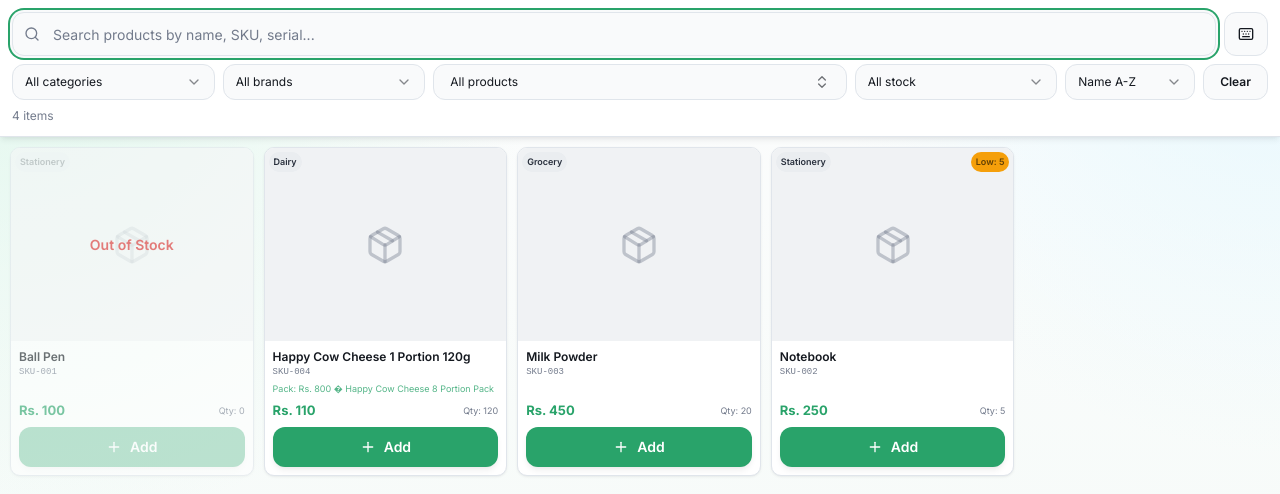
Test: ProductSearchPanel › filters by stock and brand, then clears filters back to default
Expected: the text "4 items" is shown, [12,108,54,124]
Press the mouse on the dropdown labelled "All brands" at (324,82), box [223,64,425,100]
Click the dropdown labelled "All brands" at (324,82), box [223,64,425,100]
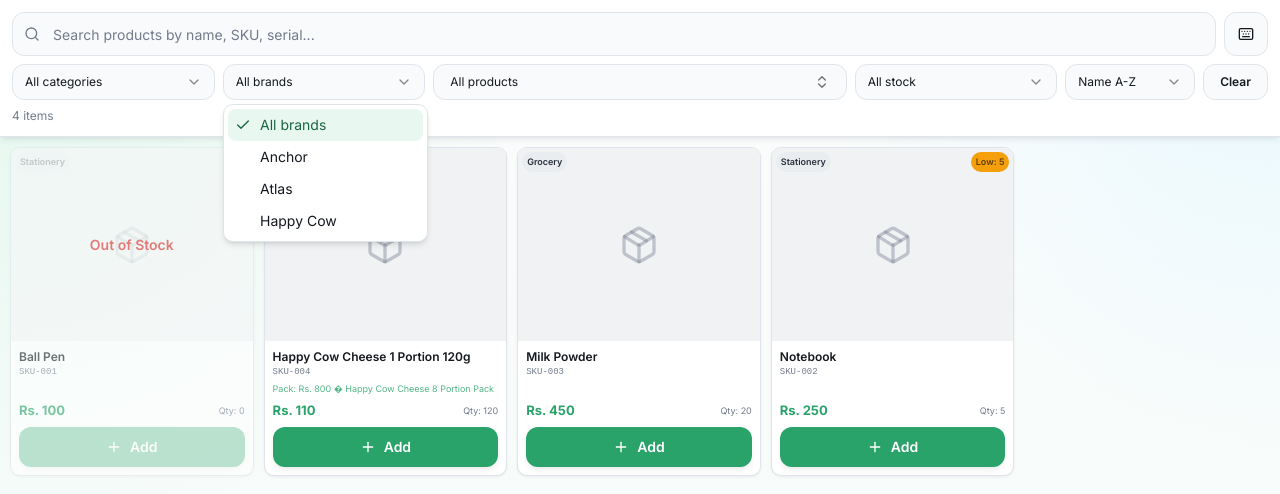
Click the option "Atlas" at (276,188), box [260,180,293,197]
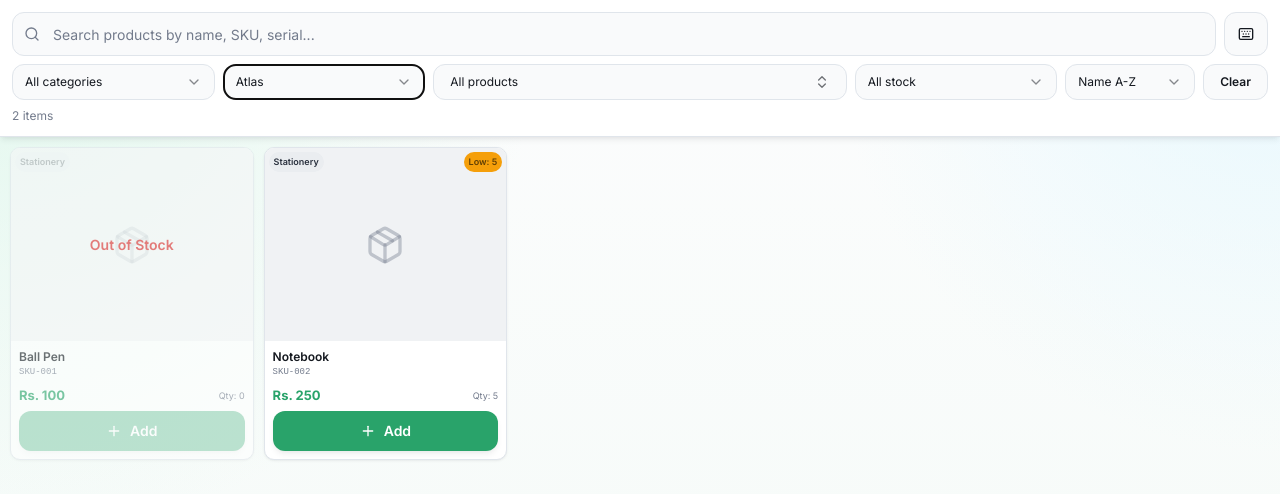
Expected: the text "2 items" is shown, [12,108,53,124]
Press the mouse on the dropdown labelled "All stock" at (956,82), box [855,64,1057,100]
Click the dropdown labelled "All stock" at (956,82), box [855,64,1057,100]
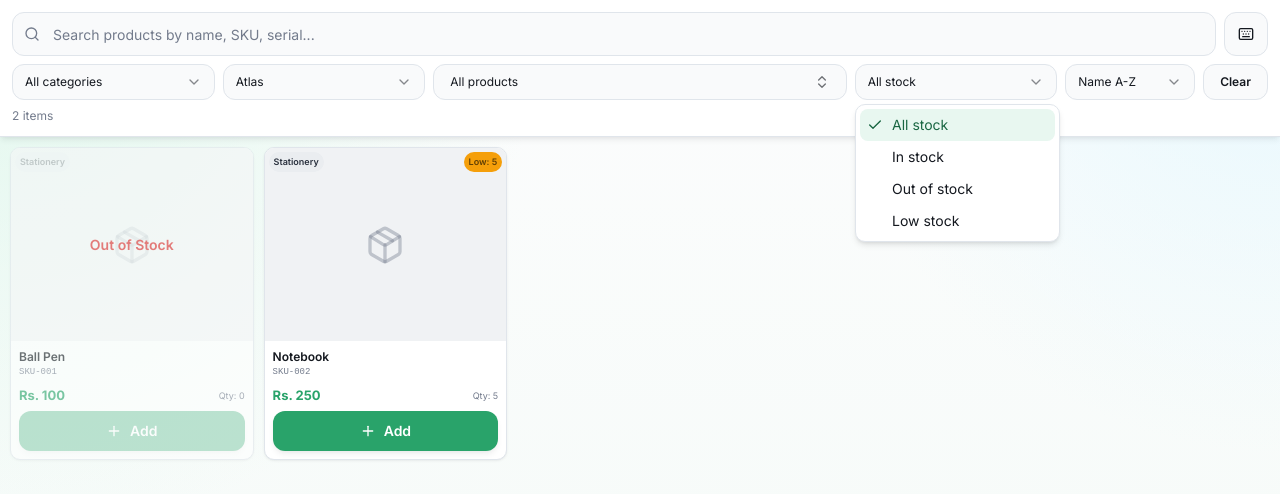
Click the option "Out of stock" at (932,188), box [892,180,973,197]
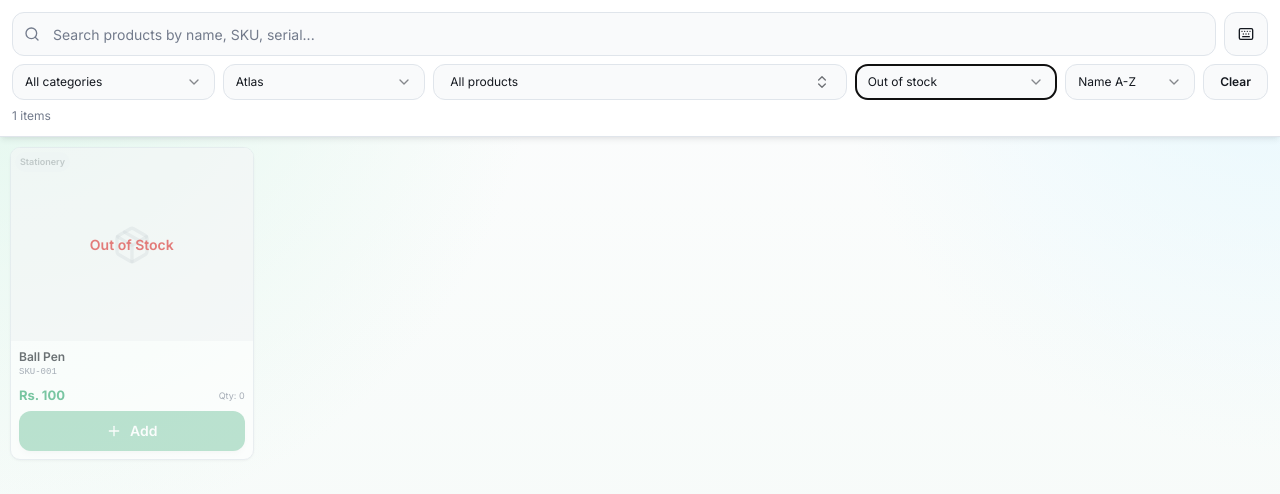
Expected: the text "1 items" is shown, [12,108,51,124]
Type "ball" into the field with placeholder "Search products by name, SKU, serial..." at (614,34), box [12,12,1216,56]
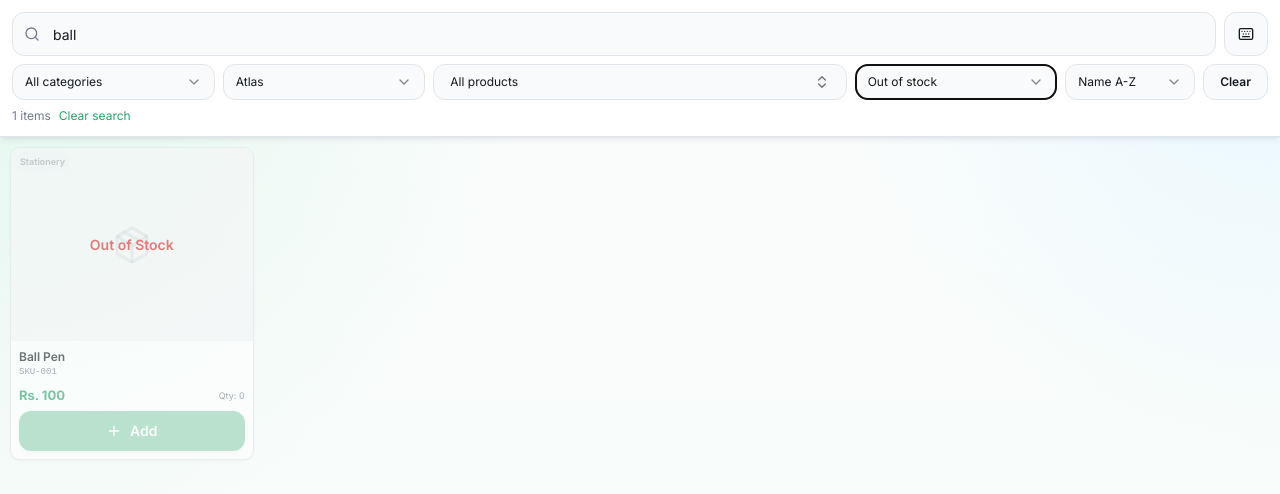
Expected: the text "1 items" is shown, [12,108,51,124]
Click the button "Clear" at (1236,82), box [1203,64,1268,100]
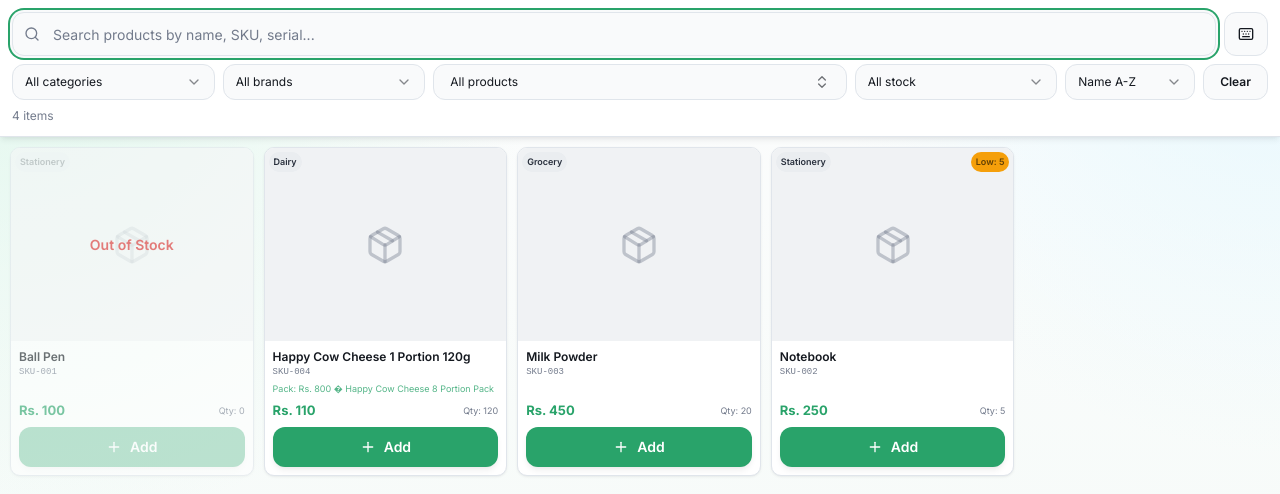
Expected: the text "4 items" is shown, [12,108,54,124]
Expected: the field with placeholder "Search products by name, SKU, serial..." is empty, [12,12,1216,56]
